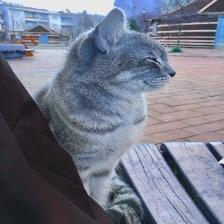kedo: (30, 8, 177, 223)
